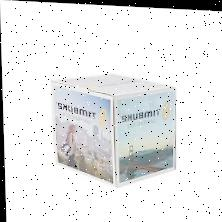cube: (52, 71, 176, 188)
